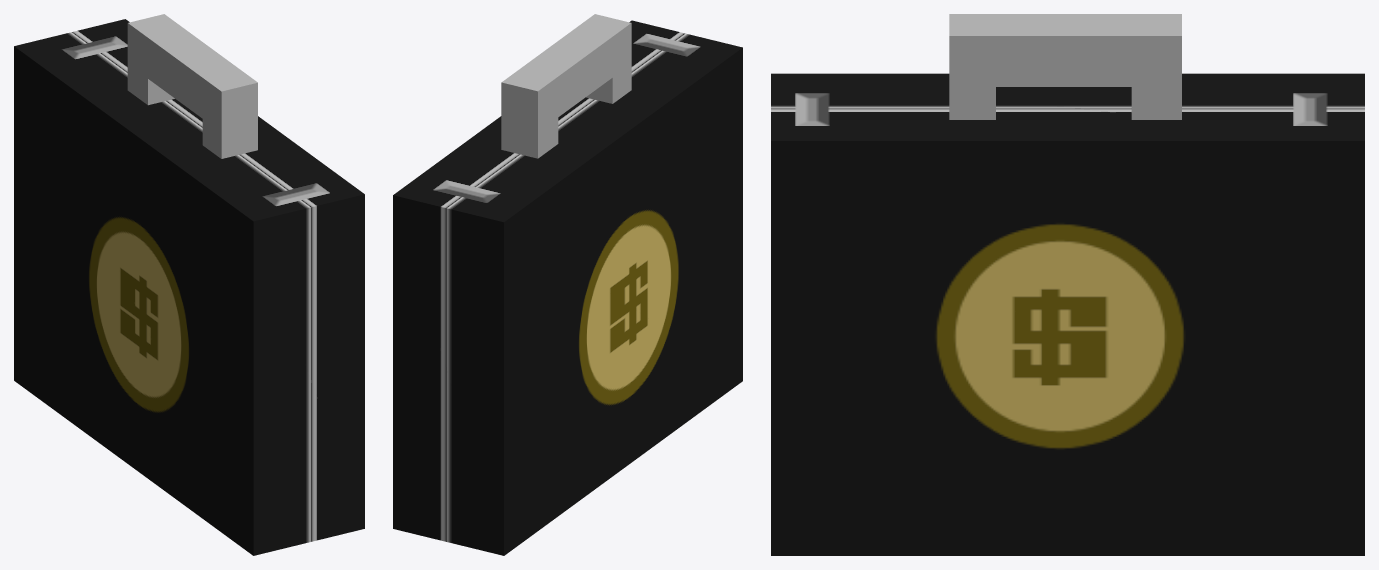
The model's file is suitcase.fbx.
The picture shows the model from 3 angles, left to right: view 1: azimuth 30°, elevation 25°; view 2: azimuth 150°, elevation 25°; view 3: azimuth 270°, elevation 25°; orthographic projection. The views are drawn at different scales.
Visible parts, largest first — view 1: Cube.001; view 2: Cube.001; view 3: Cube.001.
Boxes of the visible parts, x1,y1,x2,y2 form: Cube.001: (14,14,364,555); Cube.001: (393,14,742,555); Cube.001: (771,14,1364,555).
Size of the model in its own units: 25.33 by 87.35 by 94.28.
1 material, 1 textured.
